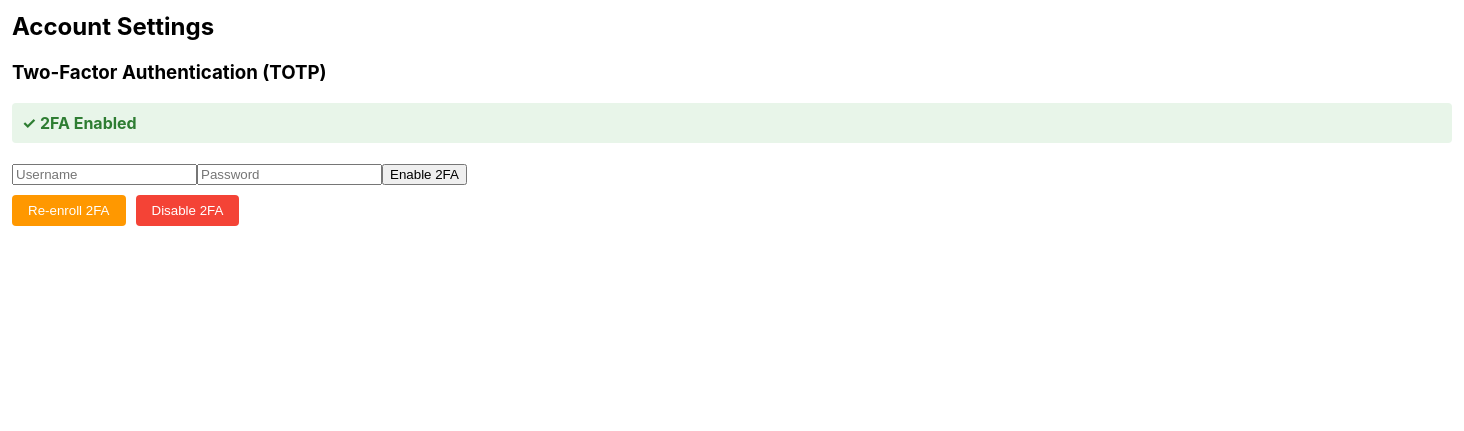
Test: Account 2FA Enrollment › allows canceling disable 2FA
The image size is (1464, 431).
# Click disable button
Click the button "Disable 2FA": (187, 210) [136,194,239,226]
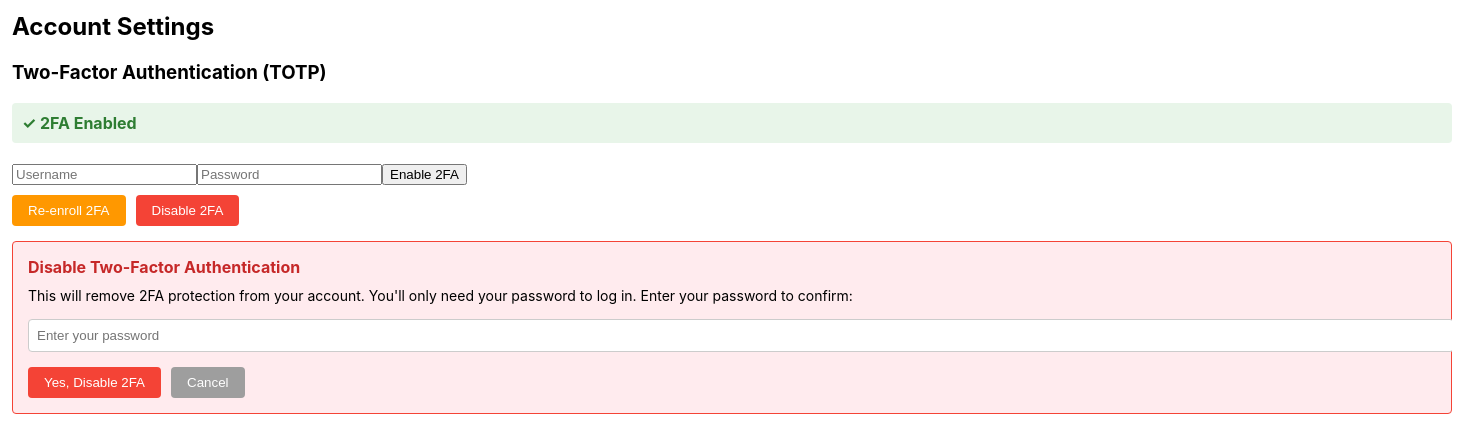
Now the text "Disable Two-Factor Authentication" is shown, box [28,256,300,276]
# Click cancel
Click the button "Cancel": (208, 382) [171,366,244,398]
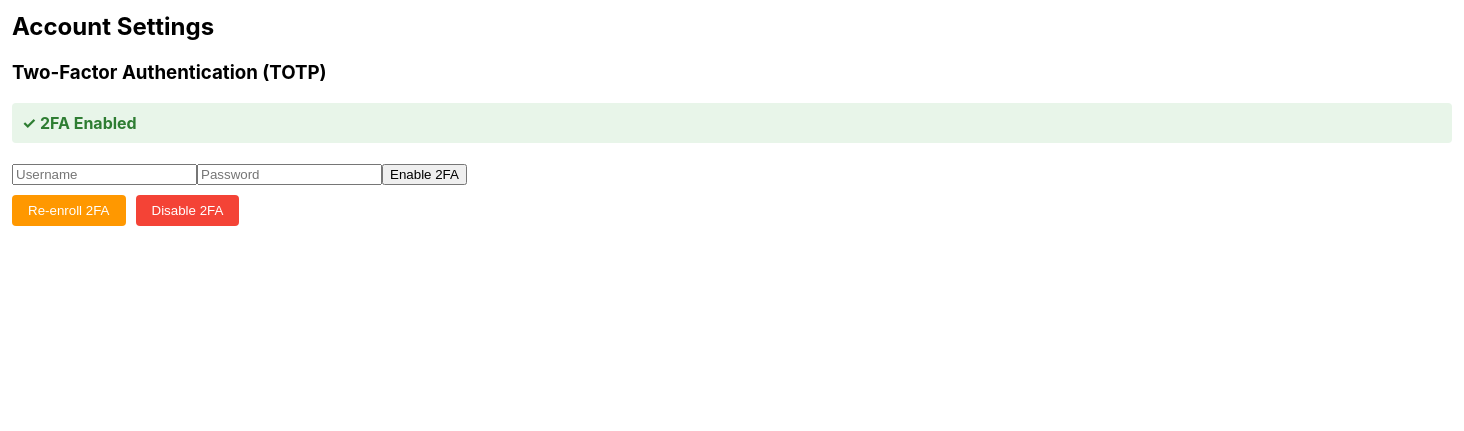
Now the text "Disable Two-Factor Authentication" is gone
